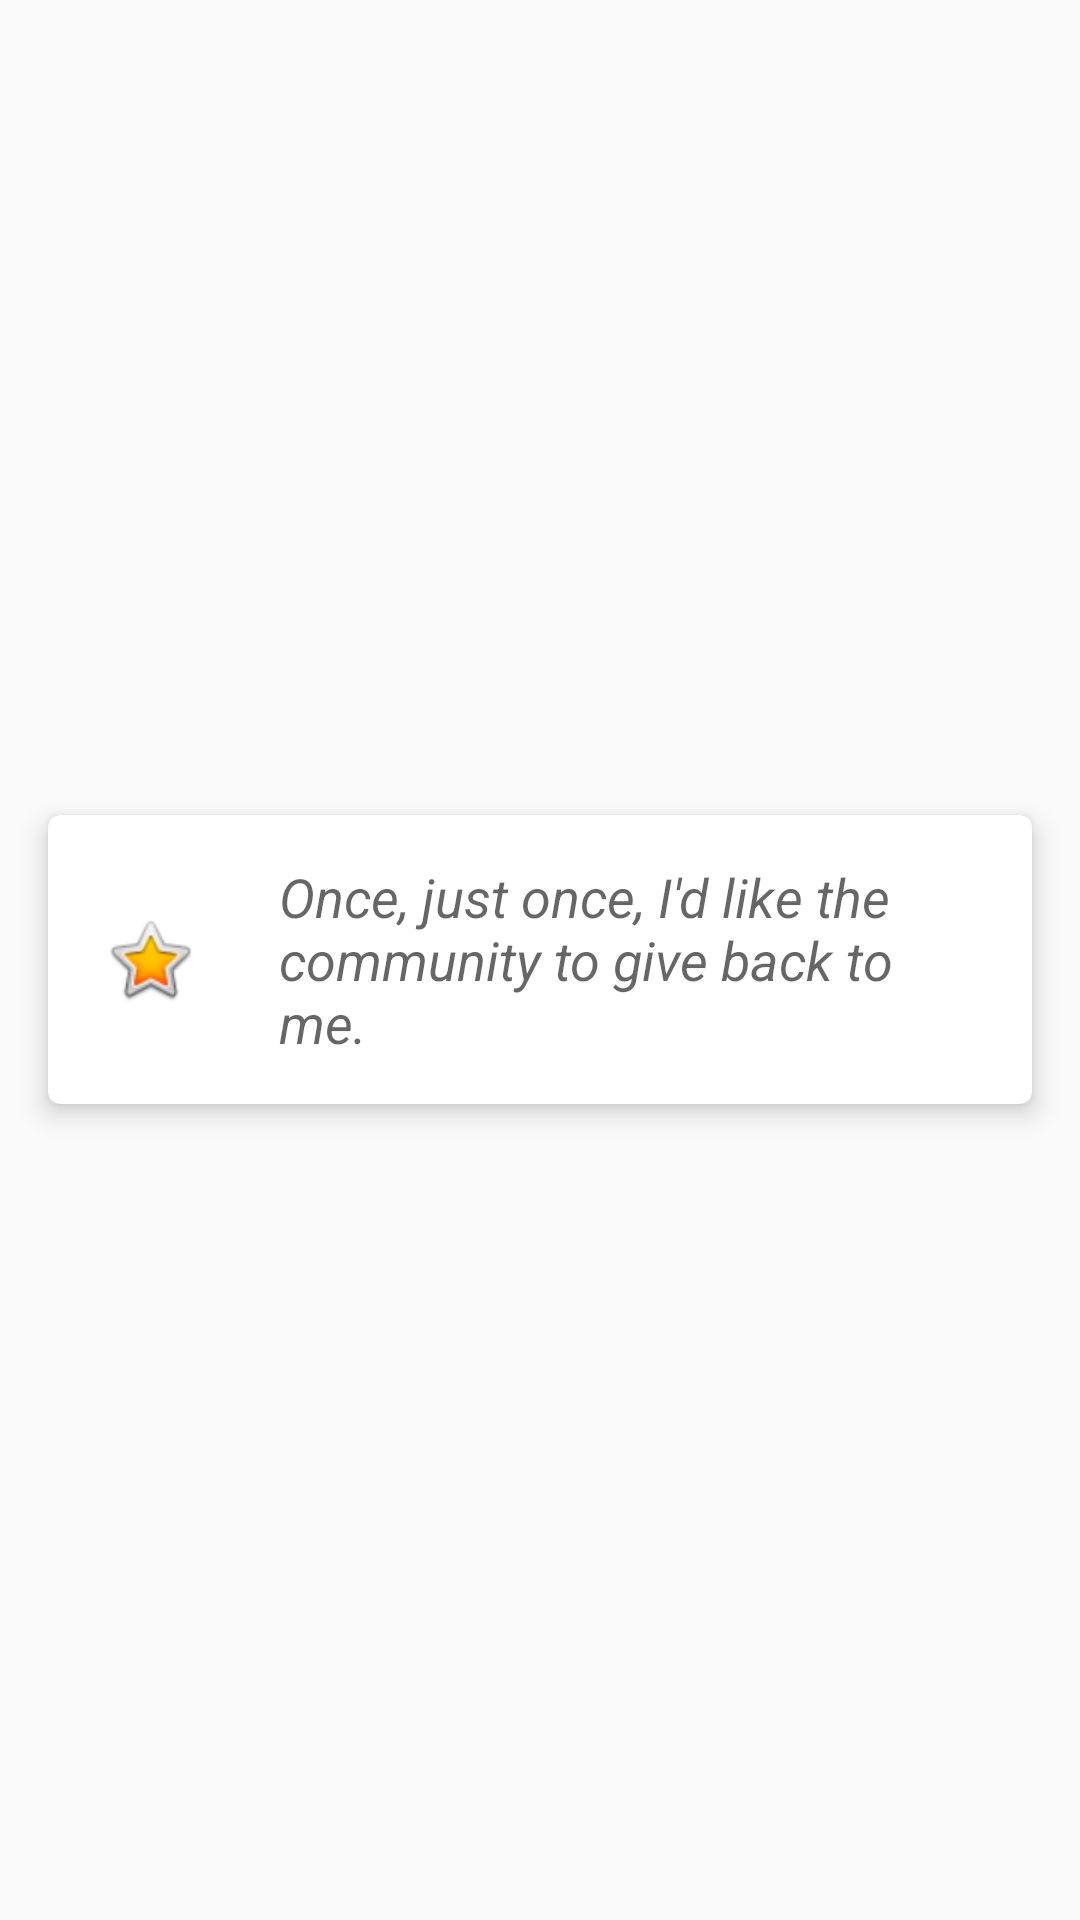

Screen size 1080 x 1920. Icon name, then its center in pixels as [x,y]:
star on: [151,960]
